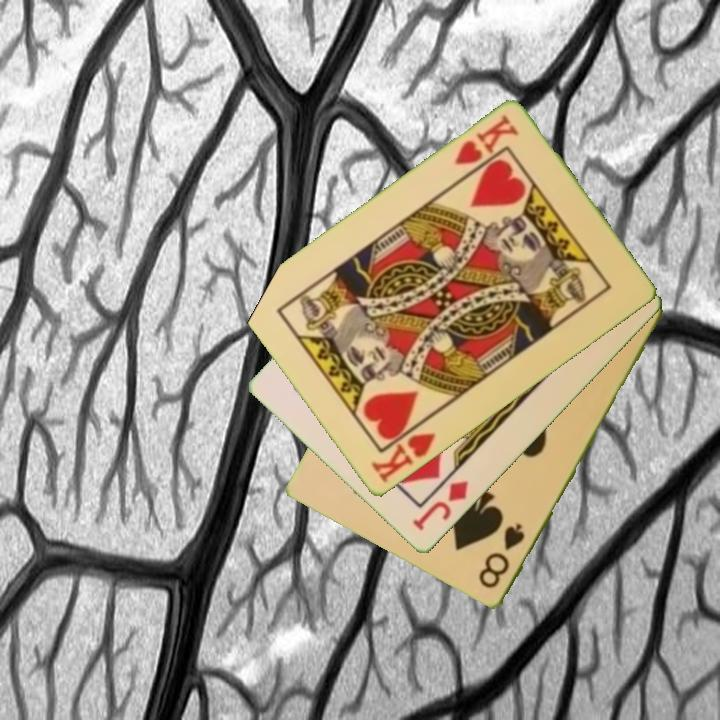8s: (475, 520, 528, 592)
Jd: (409, 477, 472, 535)
Kh: (367, 416, 439, 487), (451, 111, 522, 169)
